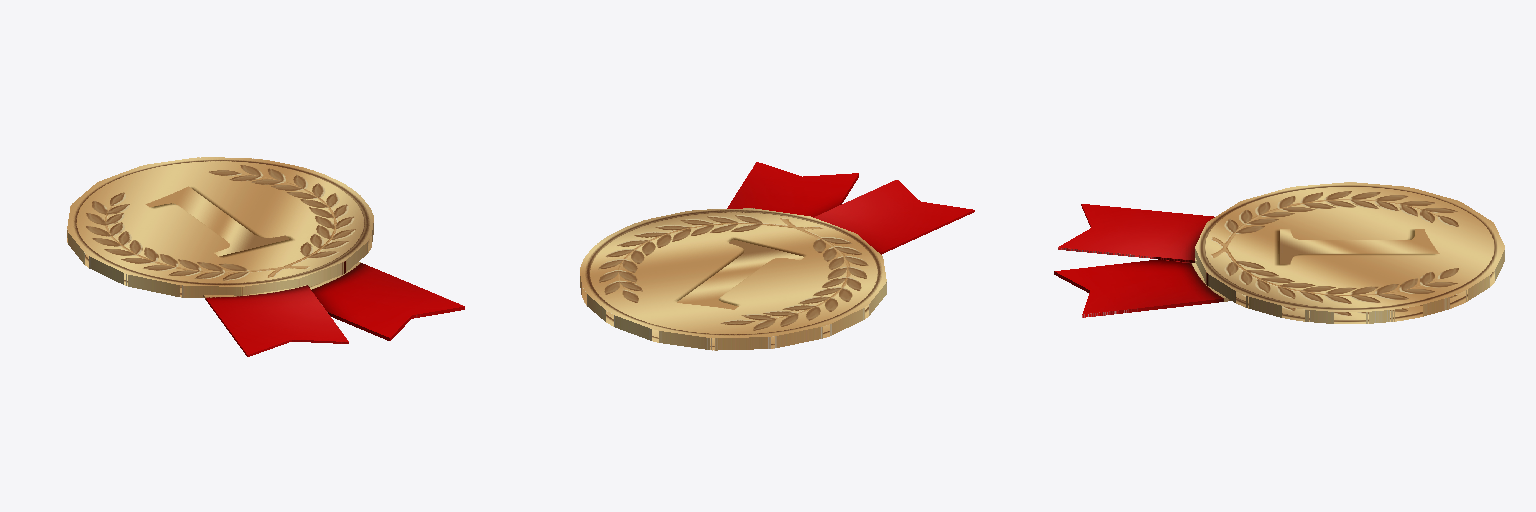
3 renders of one model, left to right at view 1: azimuth 30°, elevation 25°; view 2: azimuth 150°, elevation 25°; view 3: azimuth 270°, elevation 25°, orthographic.
Visible parts, largest first — view 1: Circle; view 2: Circle; view 3: Circle.
Boxes of the visible parts, <box> form: Circle: <box>67,157,464,356</box>; Circle: <box>580,162,974,350</box>; Circle: <box>1054,182,1504,323</box>.
Size of the model in its own units: 0.0976 by 0.0058 by 0.1417.
1 materials, 1 textured.